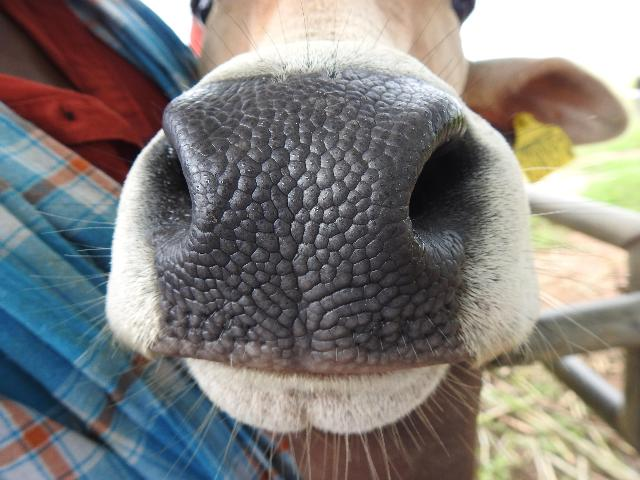Muzzle: (166, 94, 434, 352)
